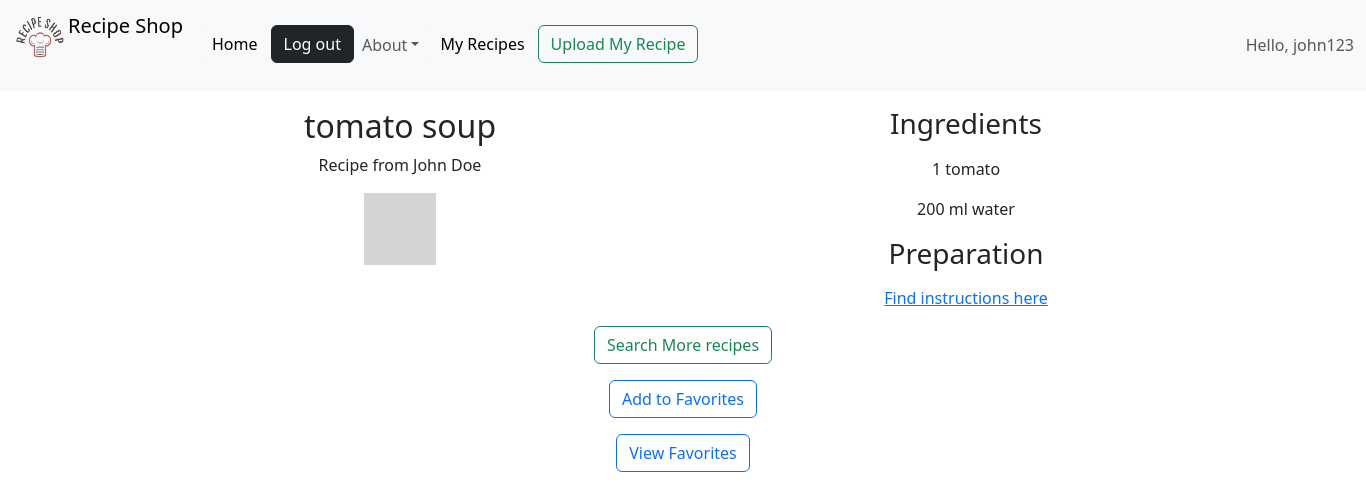
Test case: Recipe page functionality › Add to Favorites button - show work properly
The width and height of the screenshot is (1366, 489).
Click the button with test id "add_favorite". click: (683, 399)
box: x1=609 y1=380 x2=757 y2=418
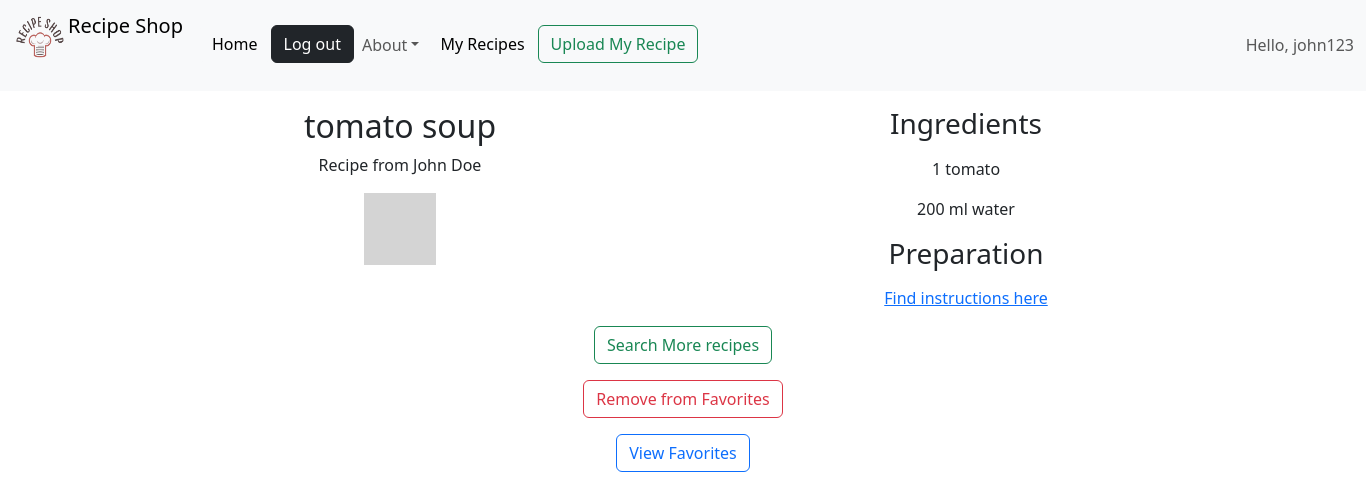
Result: the button with test id "remove_favorite" is shown at x1=583 y1=380 x2=783 y2=418
